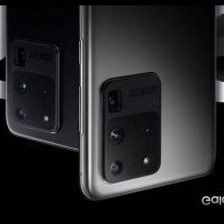phone: (76, 0, 221, 204), (2, 0, 127, 160)
